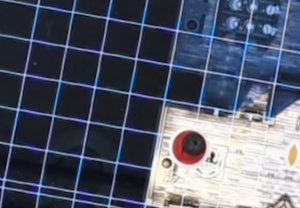red: (159, 119, 217, 174)
yellow: (277, 134, 295, 170)
